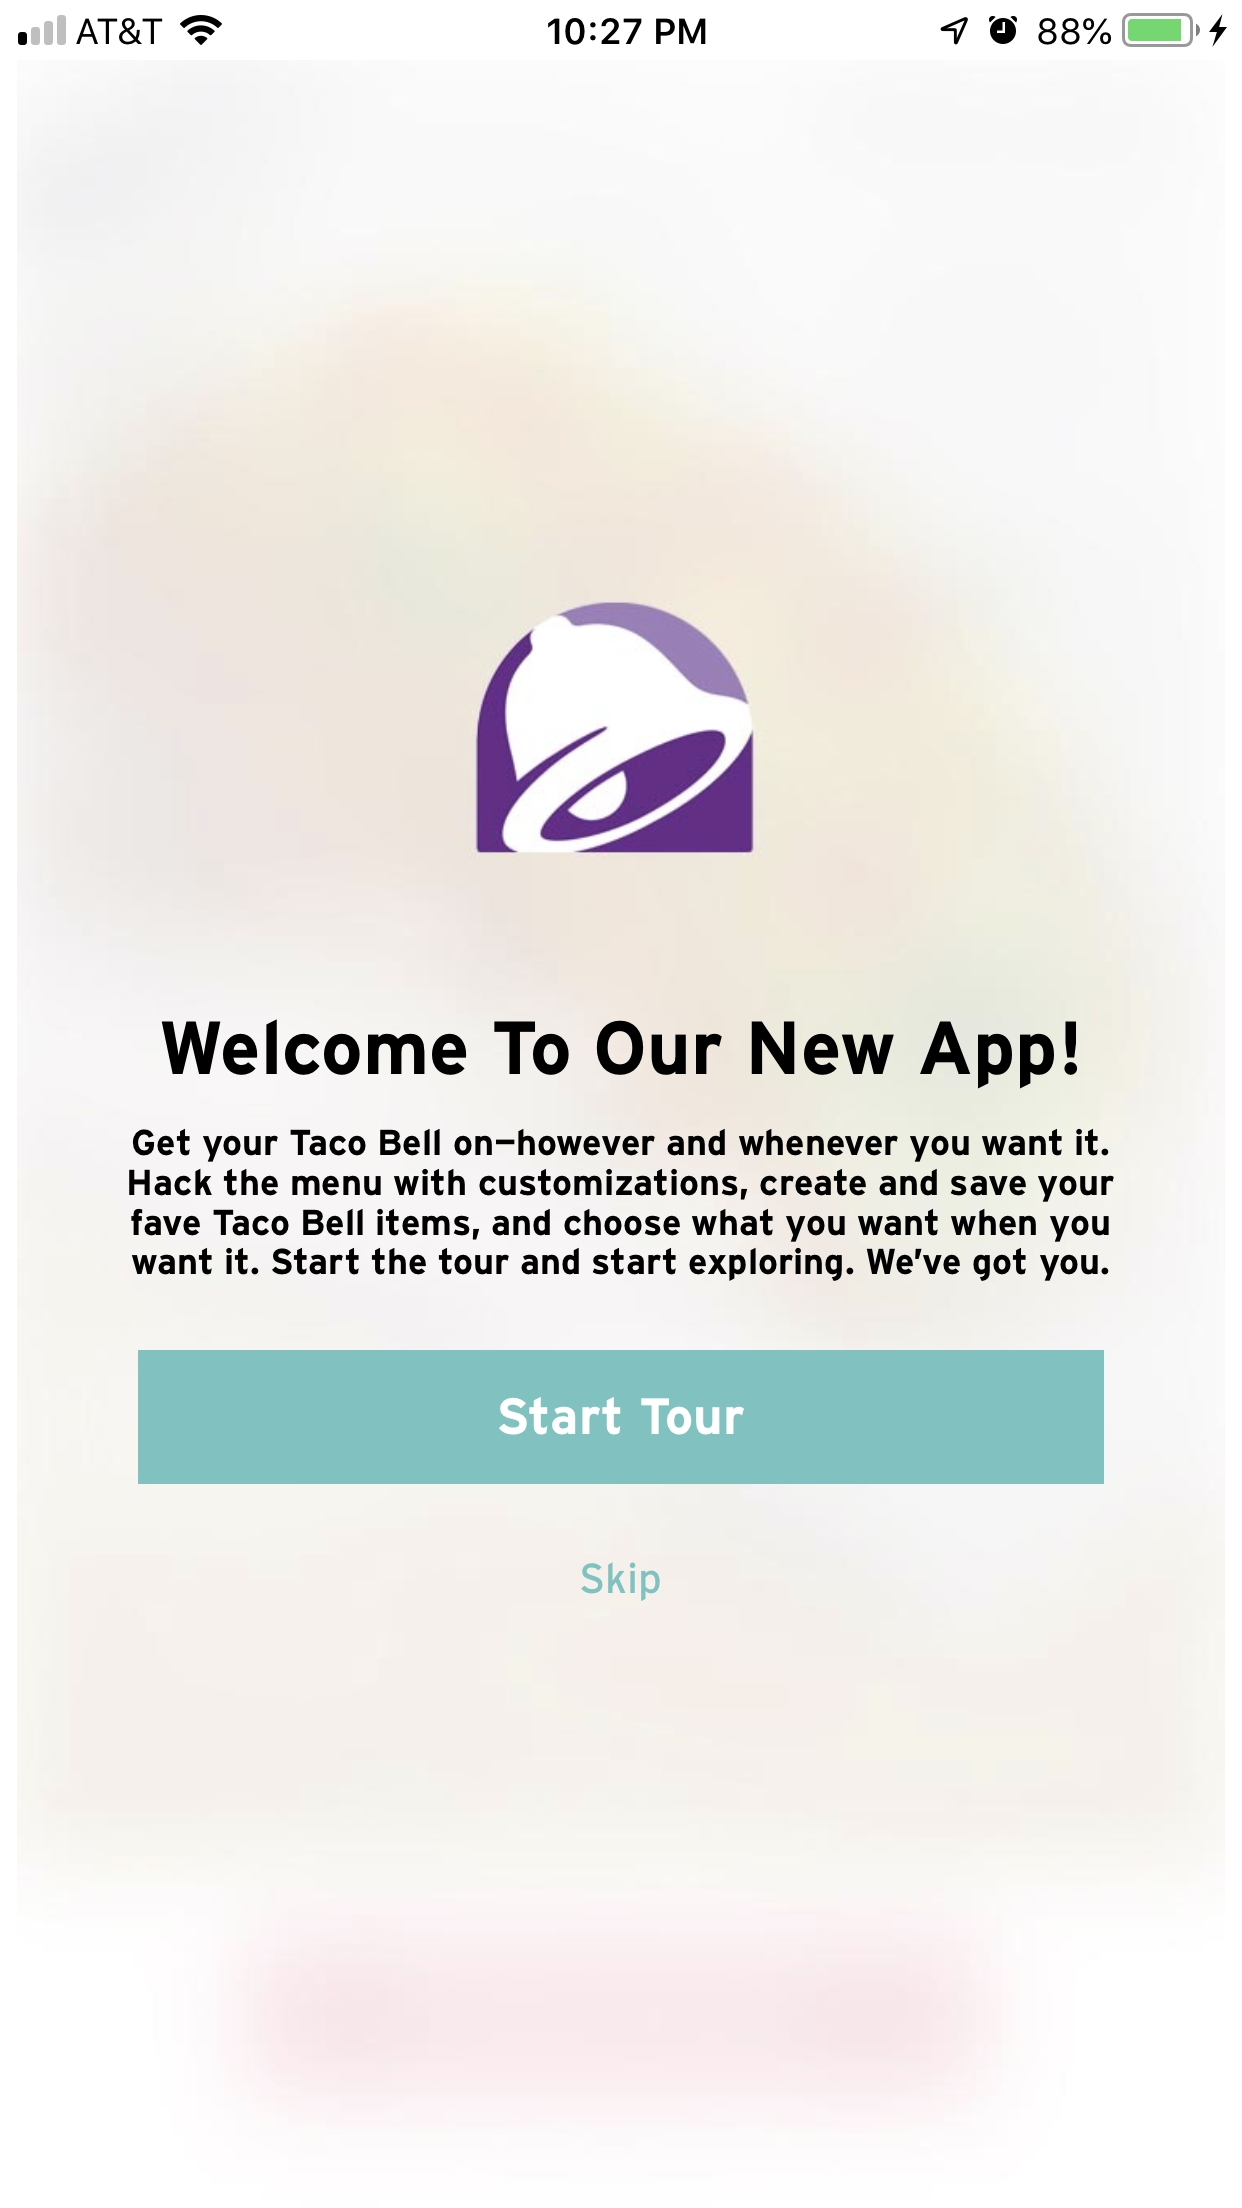Image: (478, 602, 754, 854)
Text: (129, 1128, 1115, 1281), (162, 1018, 1078, 1090), (581, 1562, 661, 1601)
TextButton: (138, 1350, 1104, 1485)
UpperTaskBar: (2, 2, 1242, 49)
